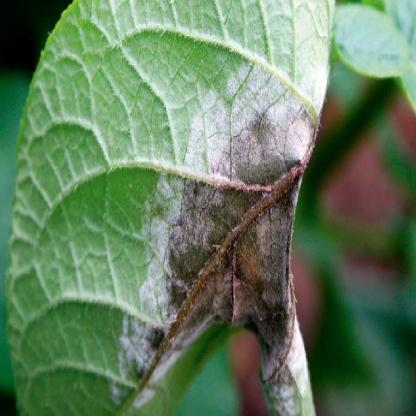potato leaf early blight: (9, 1, 337, 415)
